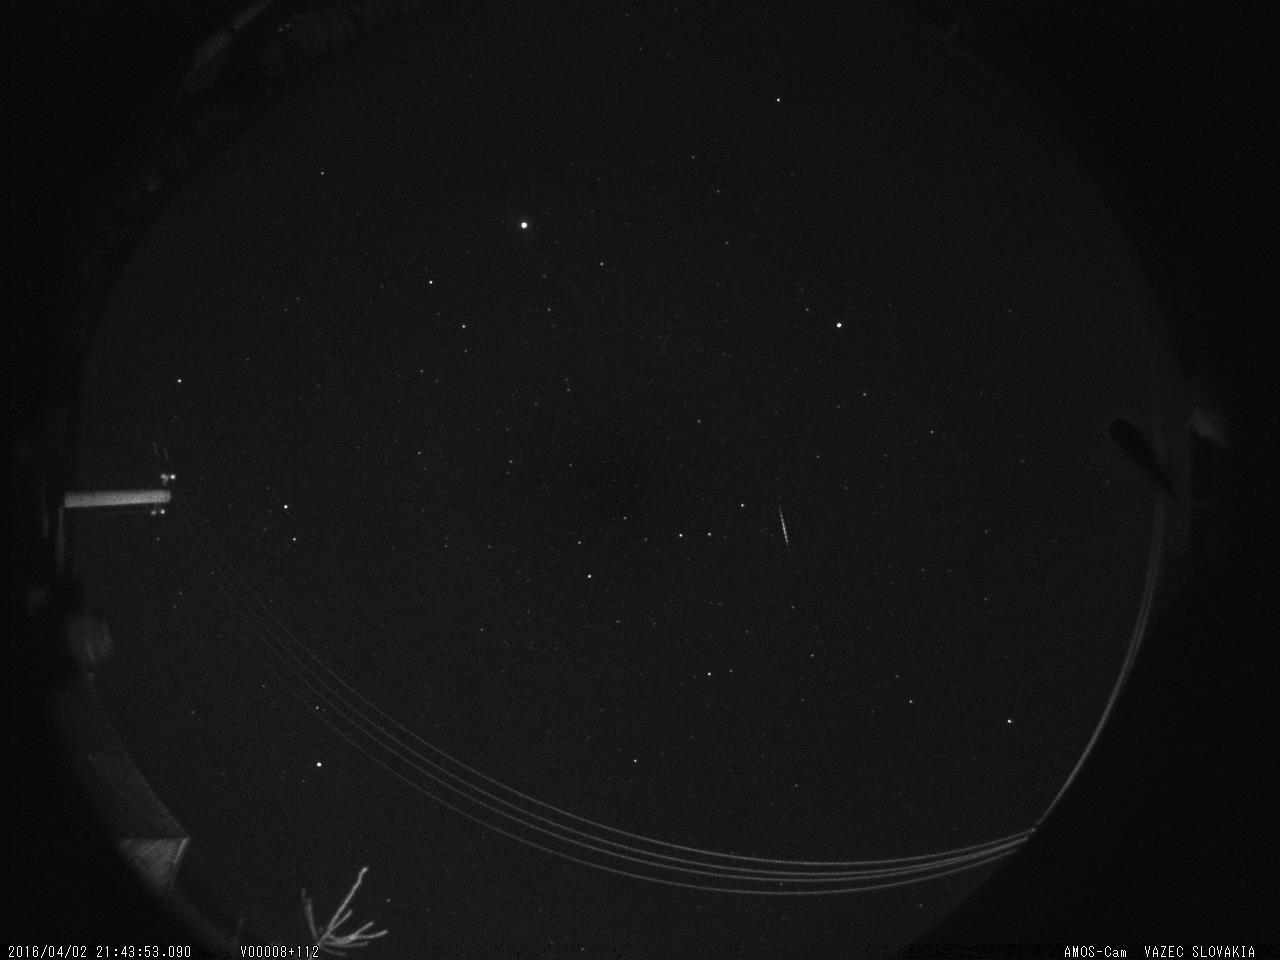Meteor: (775, 499, 796, 558)
